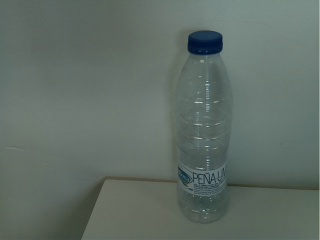botella plastico: (172, 29, 235, 226)
